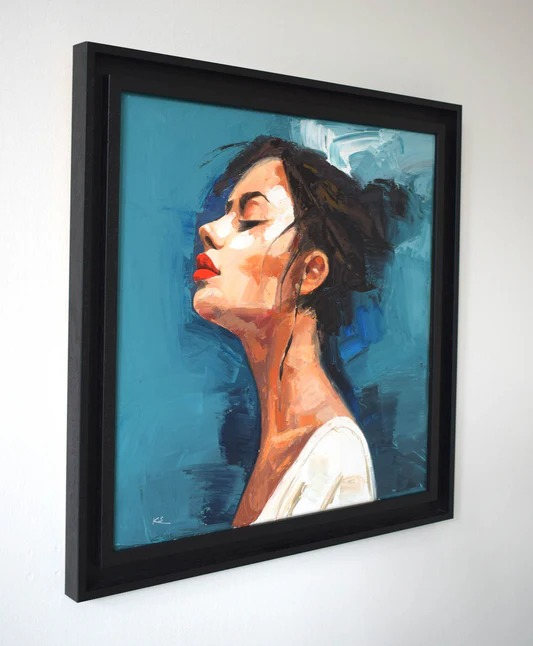painting: (115, 92, 435, 551)
